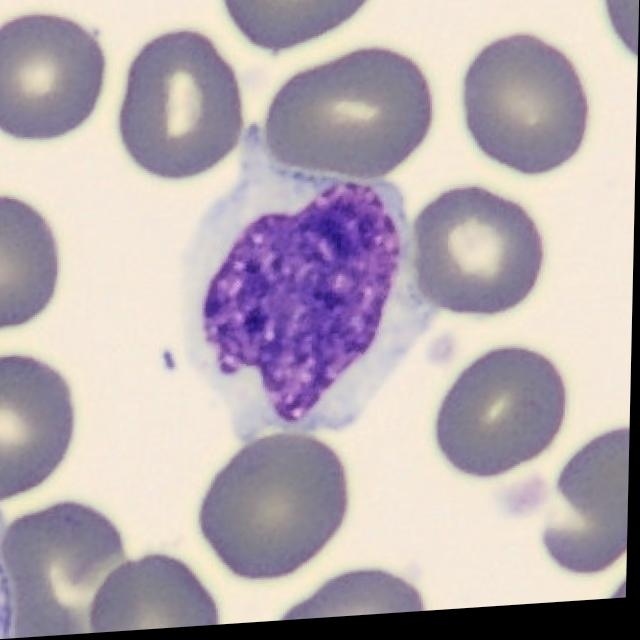Linfocito atipico: (186, 115, 437, 445)
